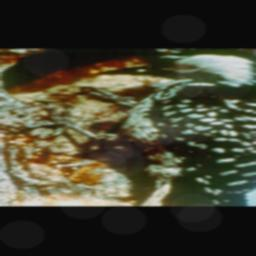Woodpecker: (12, 50, 256, 206)
